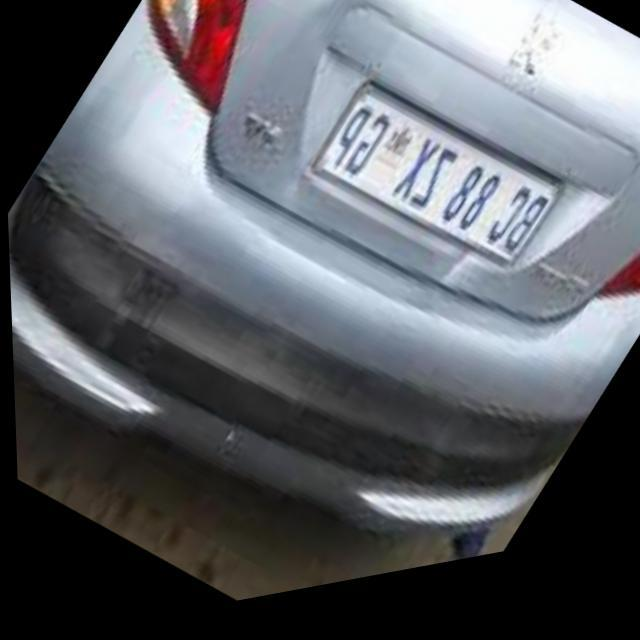dent: (305, 0, 410, 63), (420, 260, 475, 313)
